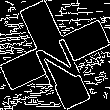N_NW: (26, 24, 84, 86)
